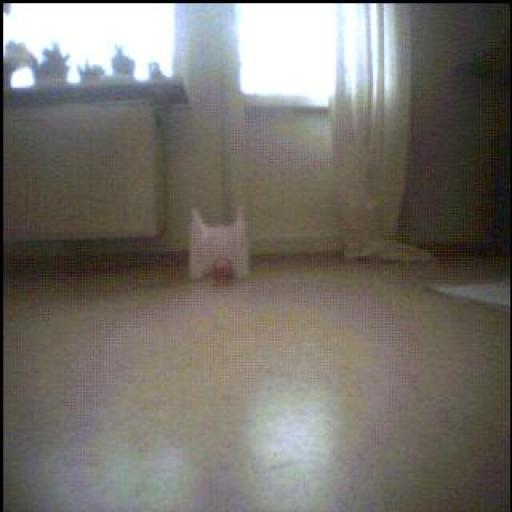Basket: (211, 256, 237, 287)
